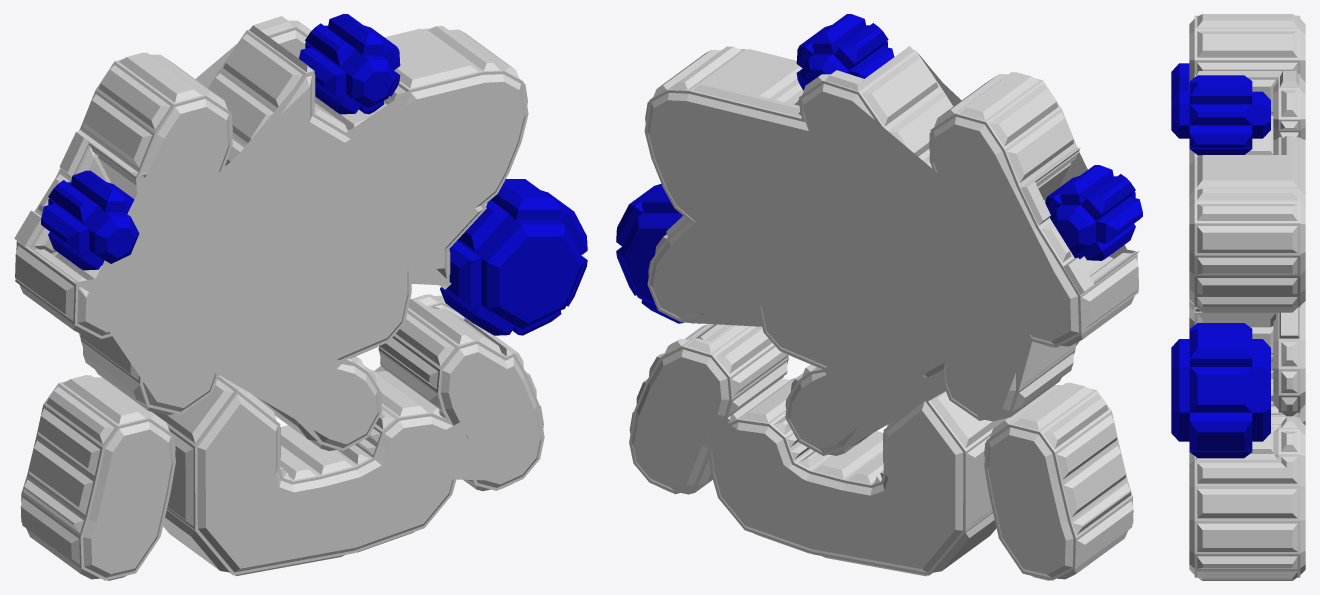
Rendered from Ch_China_您_01.fbx.
The picture shows the model from 3 angles, left to right: view 1: azimuth 30°, elevation 25°; view 2: azimuth 150°, elevation 25°; view 3: azimuth 270°, elevation 25°; orthographic projection. The views are drawn at different scales.
Visible parts, largest first — view 1: sphere1; view 2: sphere1; view 3: sphere1.
Boxes of the visible parts, left/top/right/bottom form: sphere1: left=14, top=14, right=587, bottom=580; sphere1: left=616, top=14, right=1142, bottom=580; sphere1: left=1171, top=14, right=1305, bottom=580.
Bounding box in the file's own units: 1.01 × 0.9659 × 0.2541.
